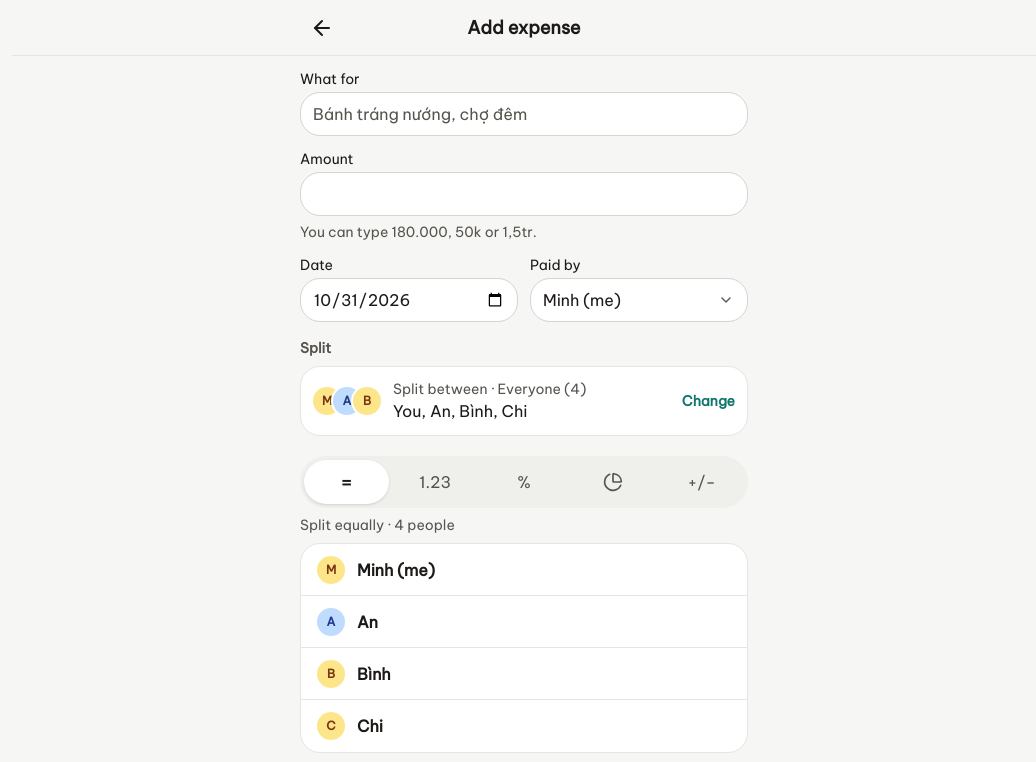
Test: ExpenseForm › exact amounts that do not add up block saving
This screenshot has width=1036, height=762.
Type "Lẩu" into the field labelled "What for". click: point(524, 114)
box: [300,92,748,136]
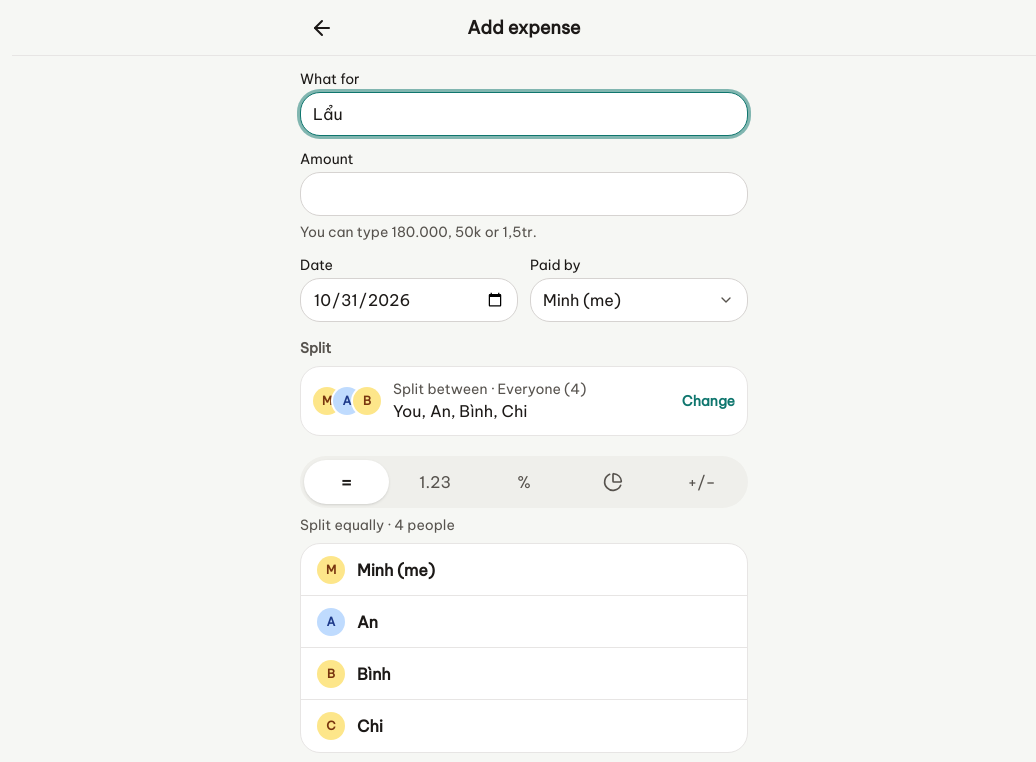
Type "100.000" into the field labelled "Amount". click: point(524, 194)
box: [300,172,748,216]
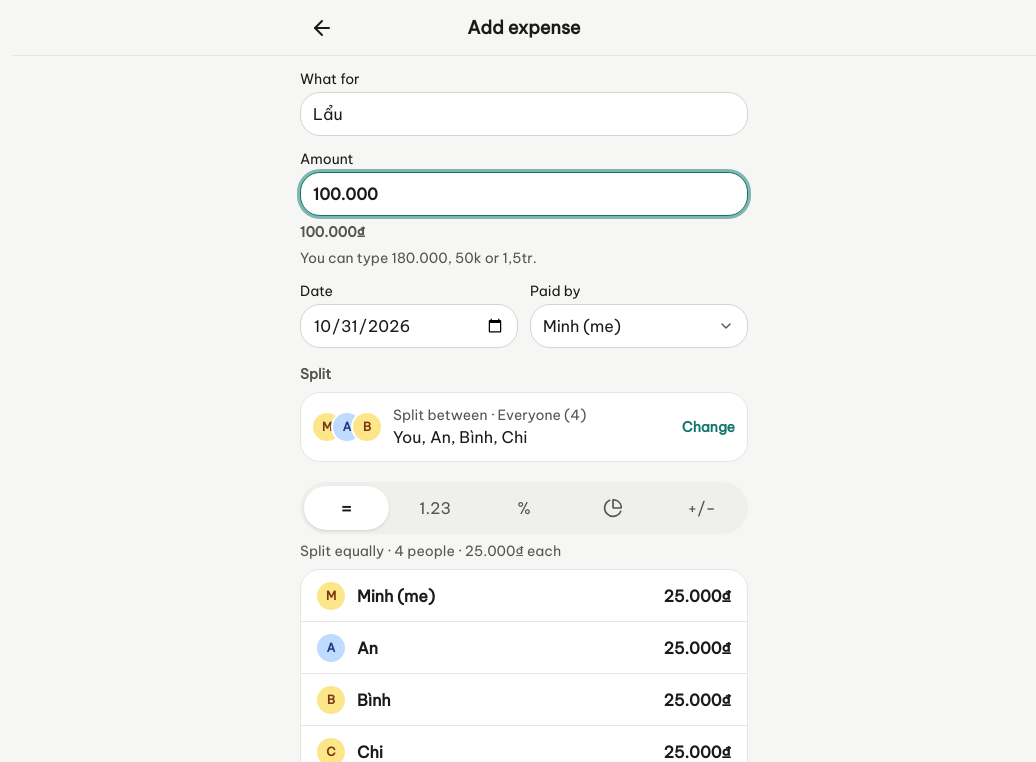
Click the radio button named "Exact amounts". click: point(435, 508)
box: [393,486,478,530]
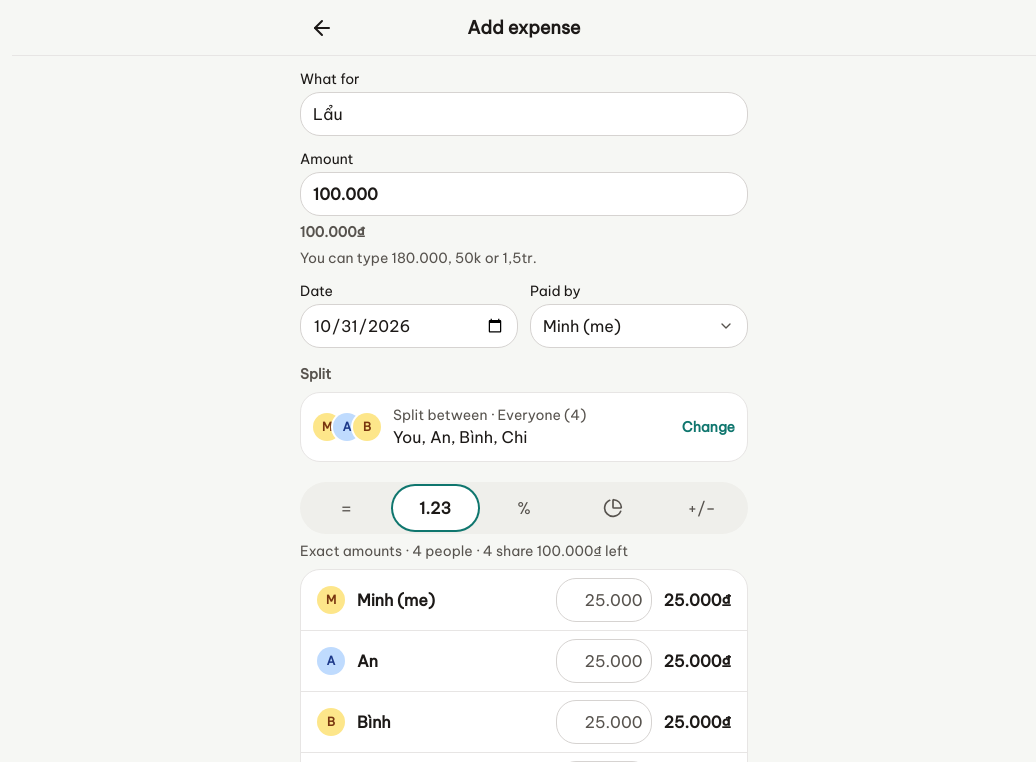
// Blank boxes share what is left, so only typing more than the total fails to add up.
Type "80.000" into the field named "Amount for Minh". click: point(604, 600)
box: [556,578,652,622]
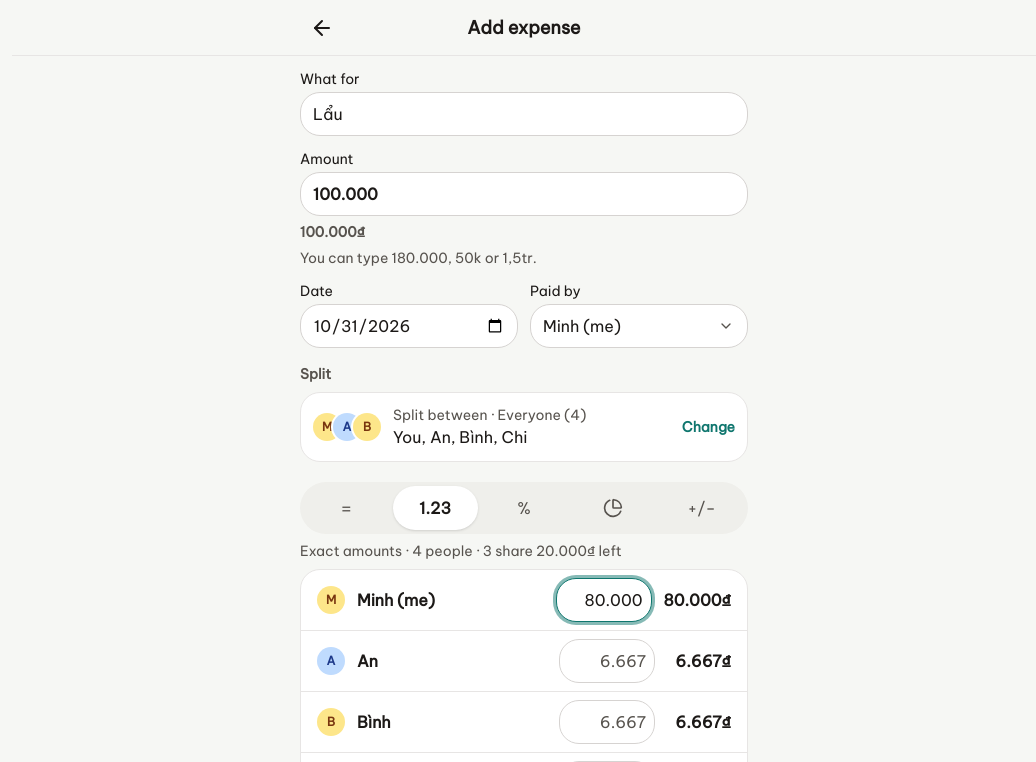
Type "30.000" into the field named "Amount for An". click: point(607, 661)
box: [559,639,655,683]
(page scrolled)
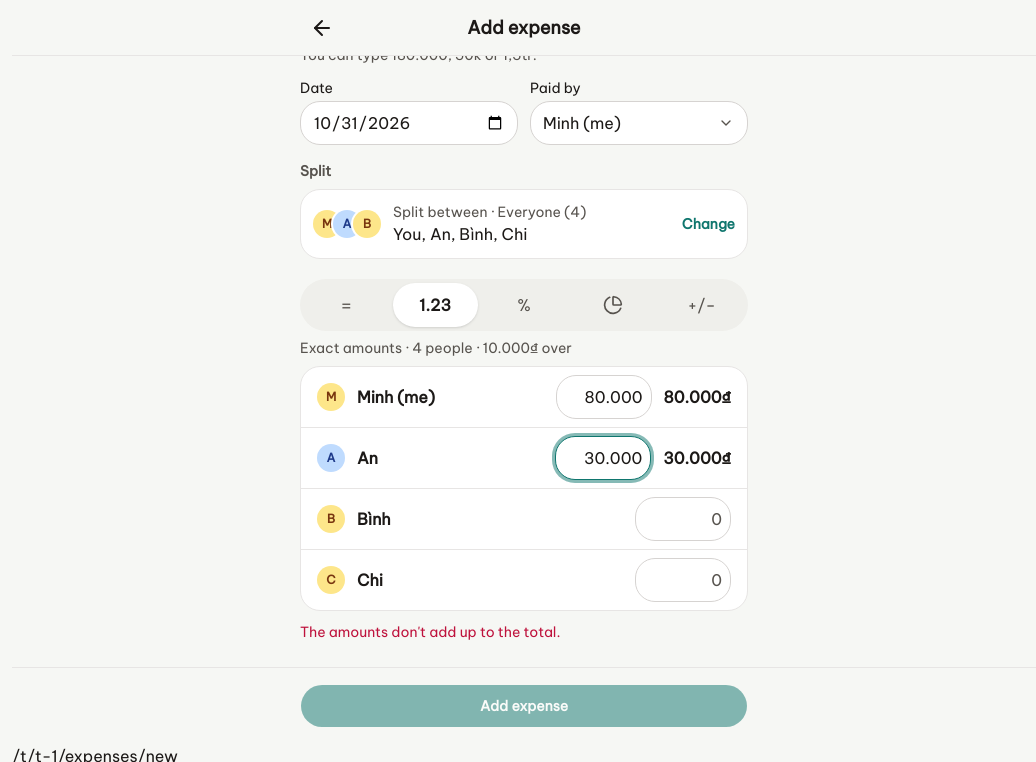
Expected: the text "The amounts don't add up to the total." is shown, [300,623,560,641]
Expected: the button "Add expense" is disabled, [300,684,748,728]
